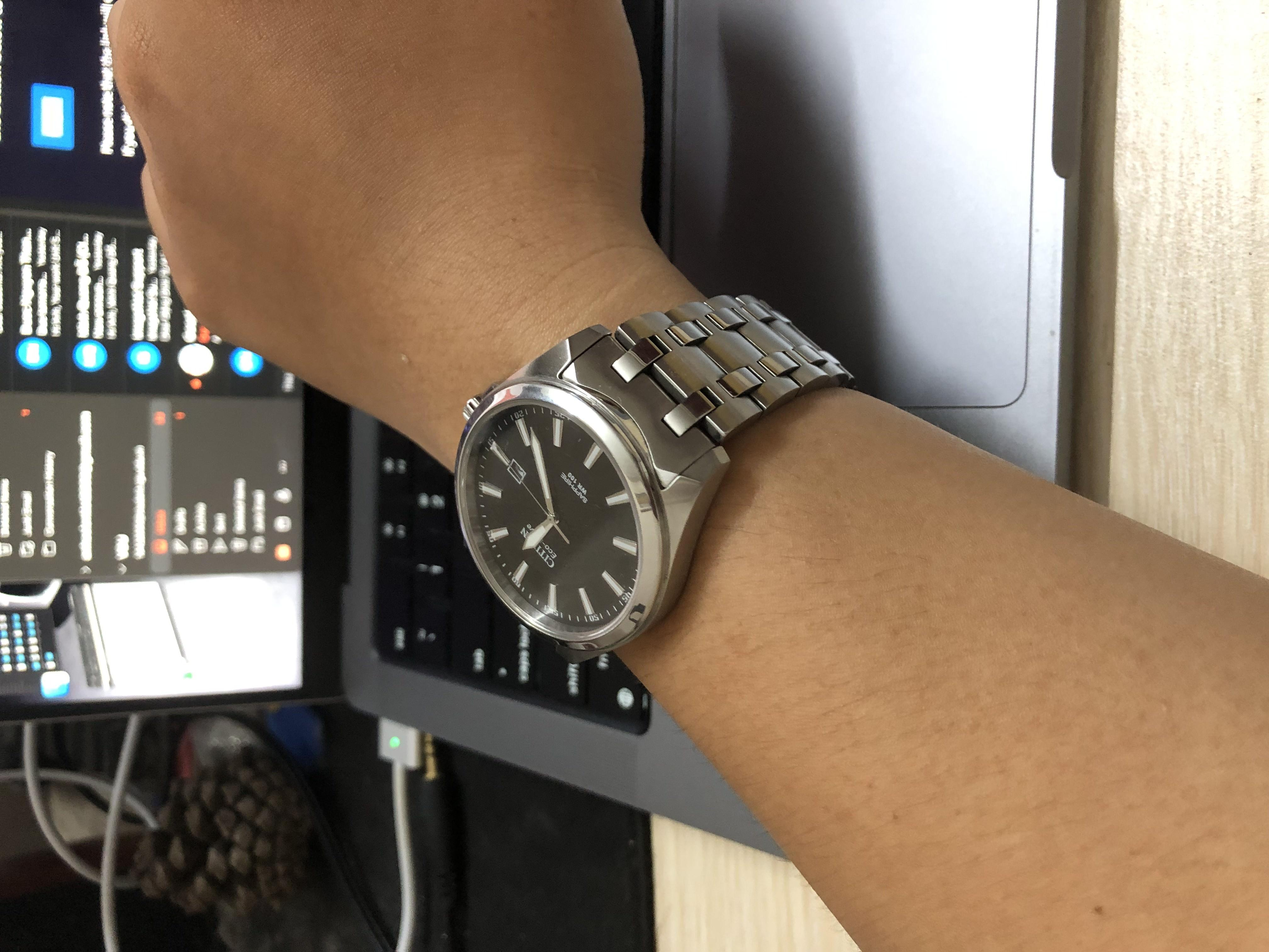watch: (385, 323, 890, 636)
